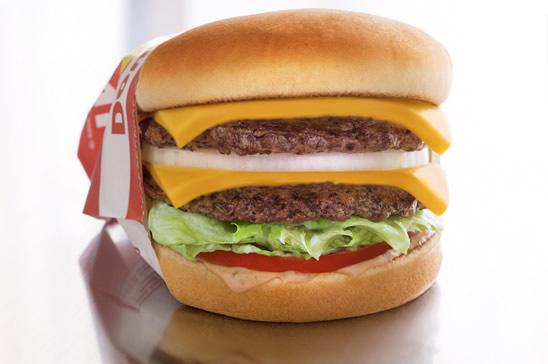hamburger: (122, 4, 470, 331)
